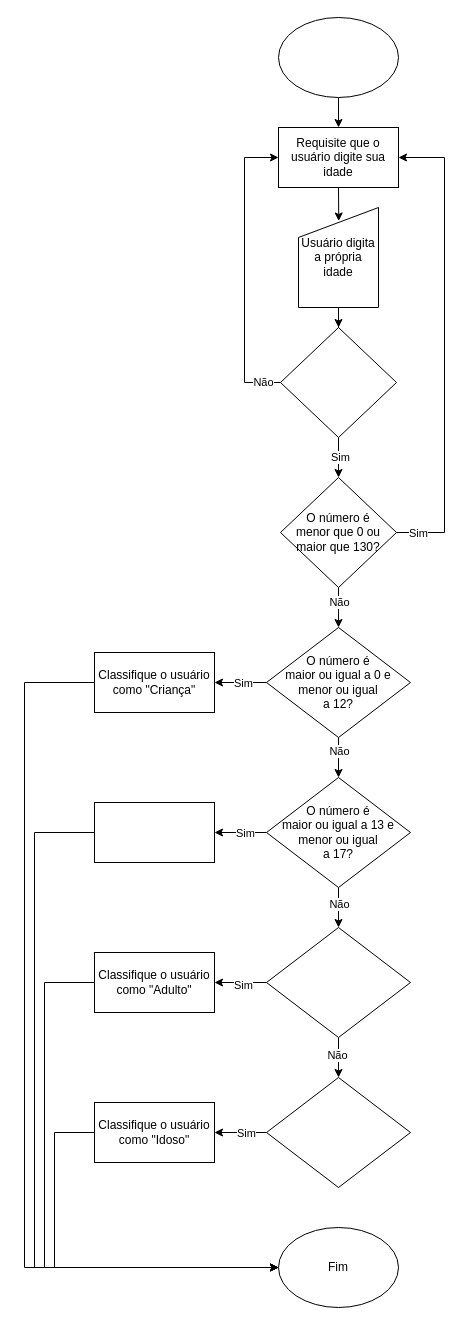
The diagram is 470 pixels wide and 1325 high, and some of its shapes have lost their labels. The centre of each missing label's shape, as x and y in pixels:
Classifique o usuário como "Adolescente": [154,832]
Início: [338,57]
O número é maior ou igual a 18 e menor ou igual a 59?: [338,982]
O número é maior ou igual a 60 e menor ou igual a 130?: [338,1132]
O valor digitado é um número?: [338,382]
